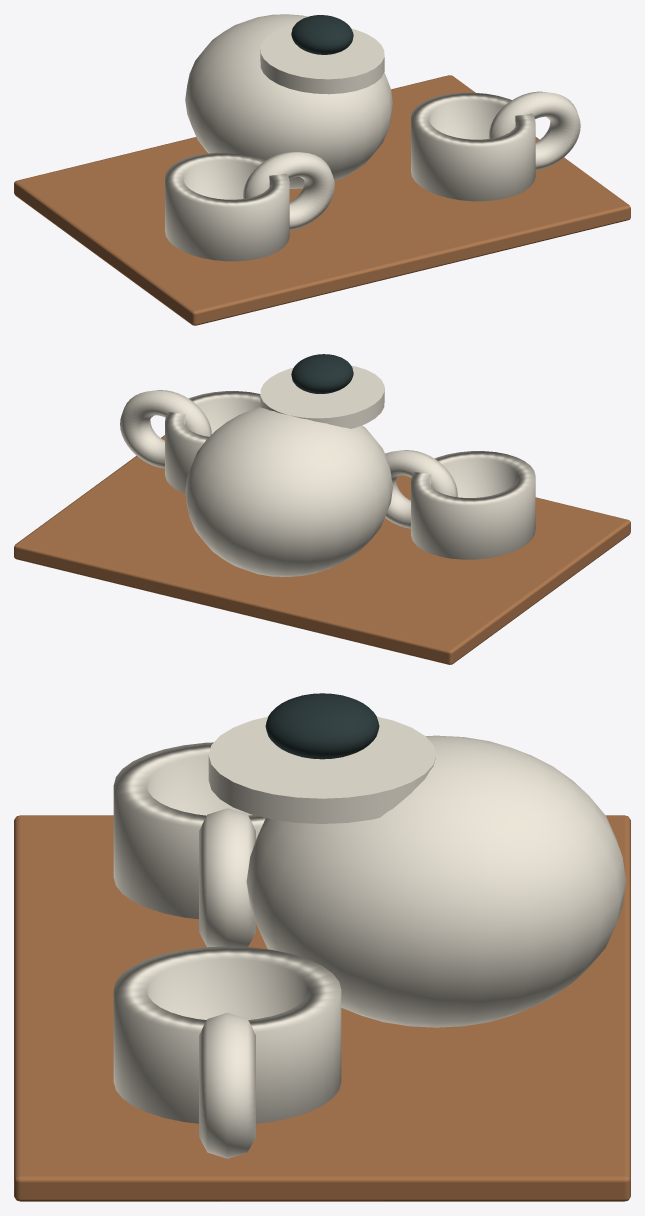
The model's file is wp-plateau-de-the.glb.
3 views of the same model, one above another, from view 1: azimuth 30°, elevation 25°; view 2: azimuth 150°, elevation 25°; view 3: azimuth 270°, elevation 25° (orthographic). The views are drawn at different scales.
Visible parts, largest first — view 1: wp-plateau-de-the; view 2: wp-plateau-de-the; view 3: wp-plateau-de-the.
Part boxes in pixels (bbox=[...]): wp-plateau-de-the: bbox=[14, 14, 630, 325]; wp-plateau-de-the: bbox=[14, 354, 630, 664]; wp-plateau-de-the: bbox=[14, 693, 630, 1201].
Bounding box in the file's own units: 0.5 × 0.2 × 0.35.
